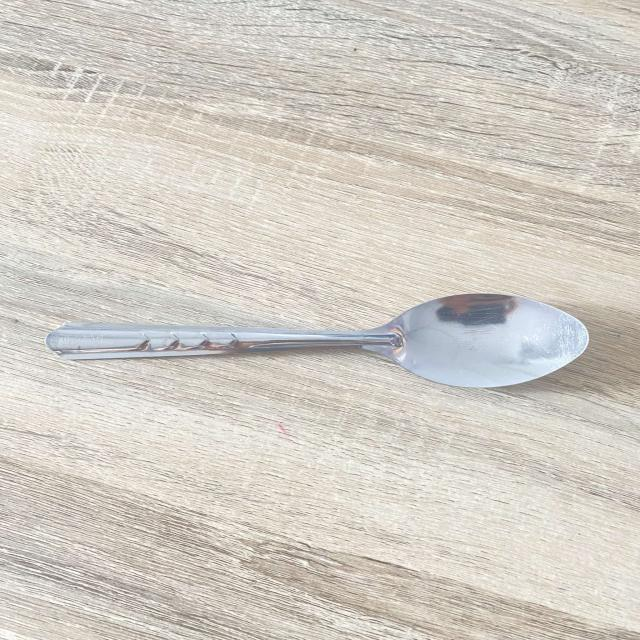spoon: (40, 288, 600, 395)
